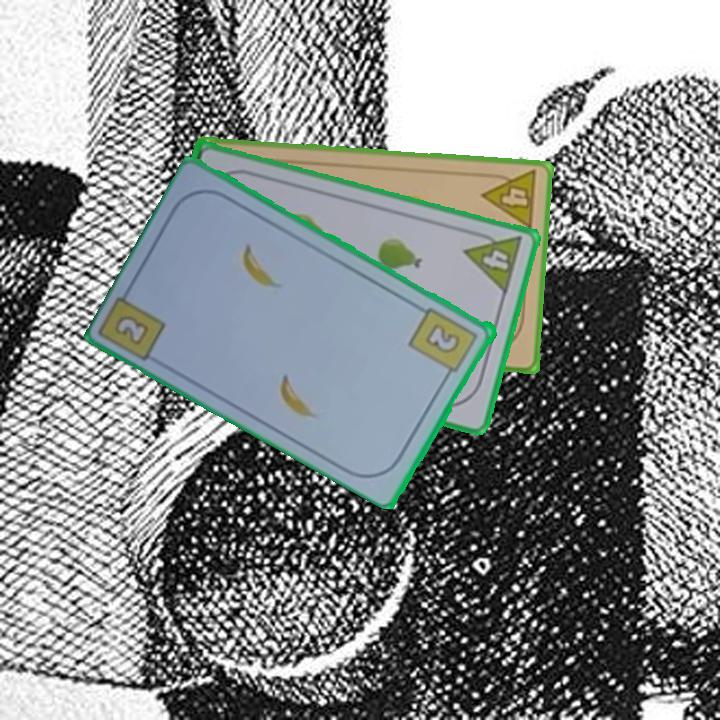2b: (406, 304, 482, 382), (114, 314, 149, 345)
4p: (461, 226, 525, 297), (479, 167, 540, 232)
